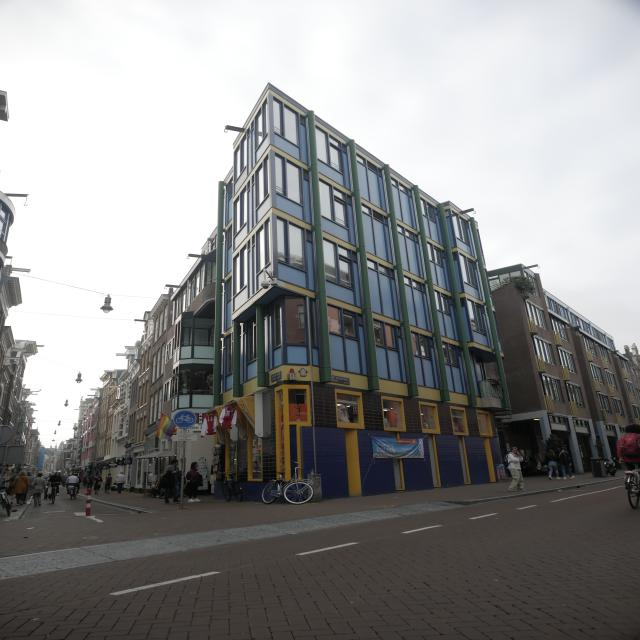building: (218, 82, 511, 502), (75, 236, 215, 492), (489, 263, 640, 482)
